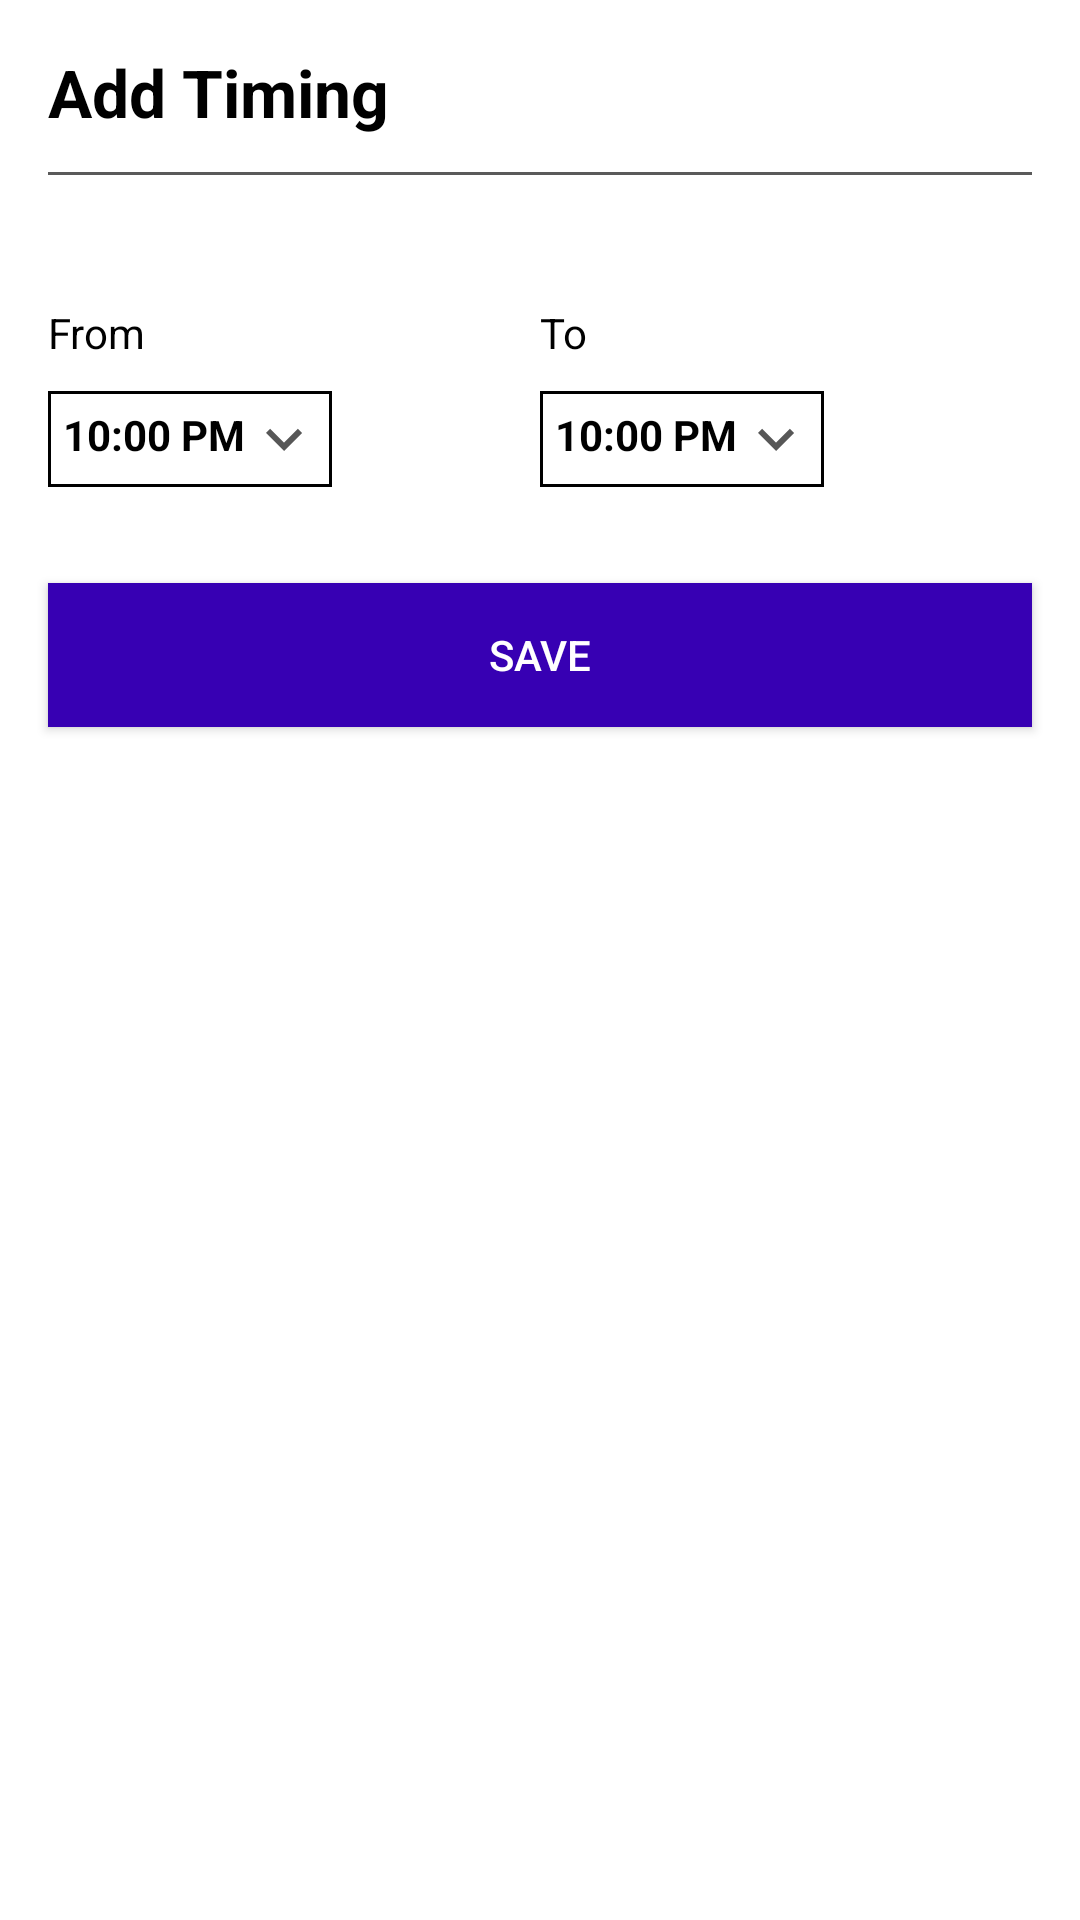

Where icons sit on this 1080*1920 app screen, as (x1, y1, x2, y2):
keyboard arrow down: (266, 429, 302, 451), (758, 429, 794, 451)
